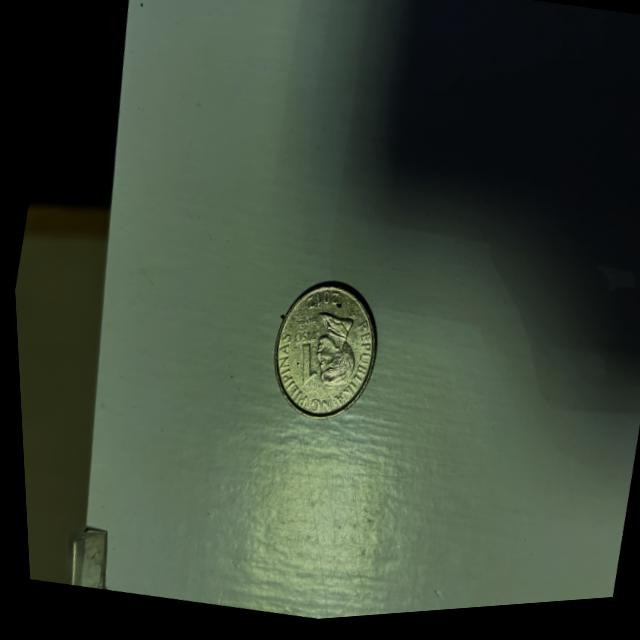1_Old_Front: (278, 323, 323, 396)
